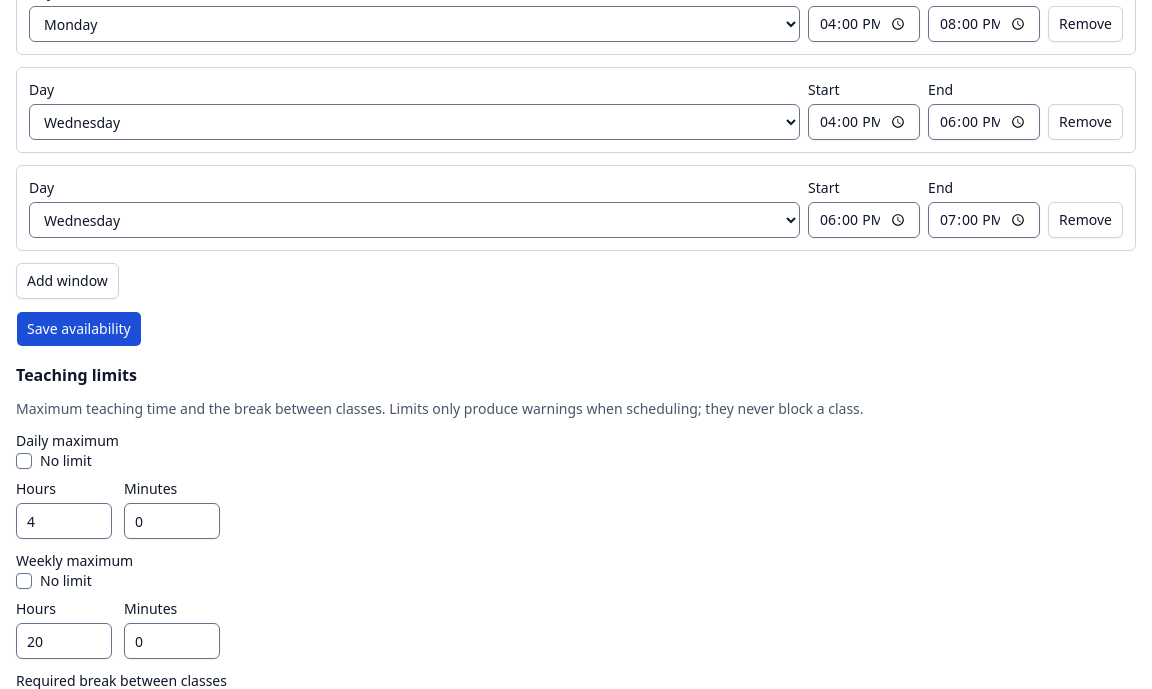
Scenario: saving the weekly windows (F1, F3) › unchanged windows send nothing
(page scrolled)
Click the button "Save availability".
click(79, 329)  # box [16,311,142,347]
(page scrolled)
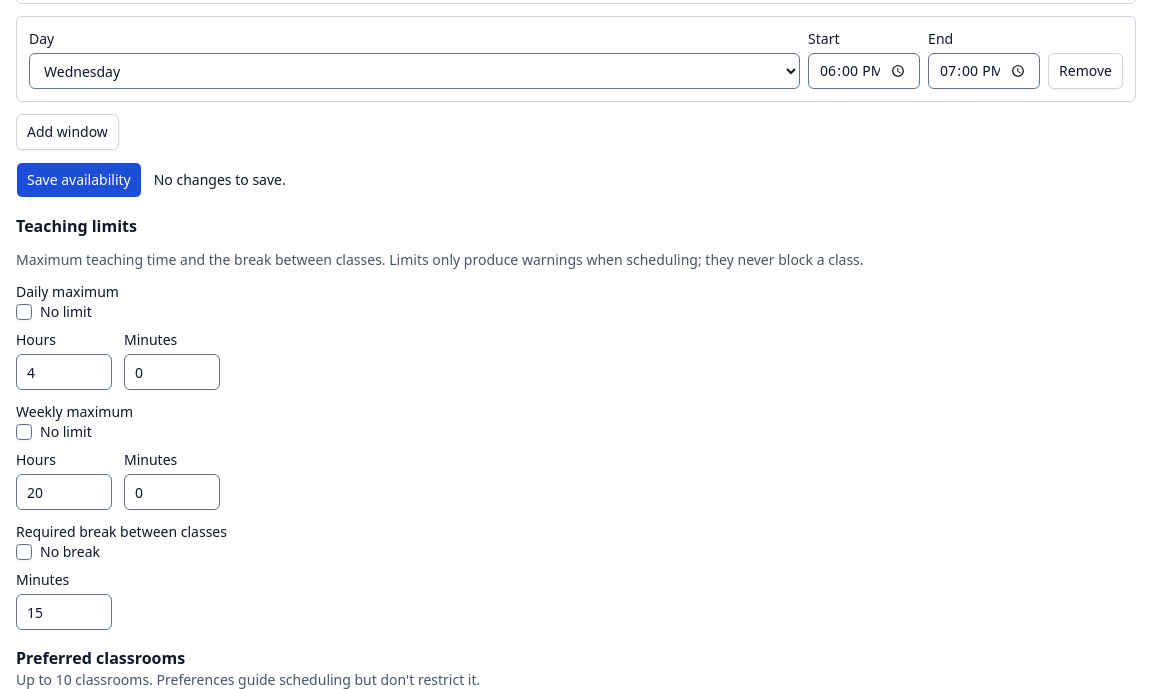
Expected: the element with id "availability" shows "No changes to save.", [154,170,286,189]
